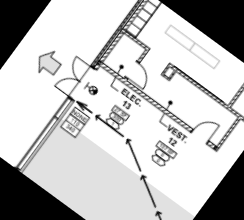door: (124, 60, 157, 92), (191, 113, 222, 144)
double door: (51, 53, 95, 101)
wall: (95, 58, 196, 134), (166, 60, 244, 132), (98, 0, 153, 64), (213, 116, 243, 154), (119, 27, 152, 53), (225, 76, 244, 110), (156, 61, 173, 80), (135, 49, 150, 66), (158, 70, 175, 84), (165, 69, 177, 83)
